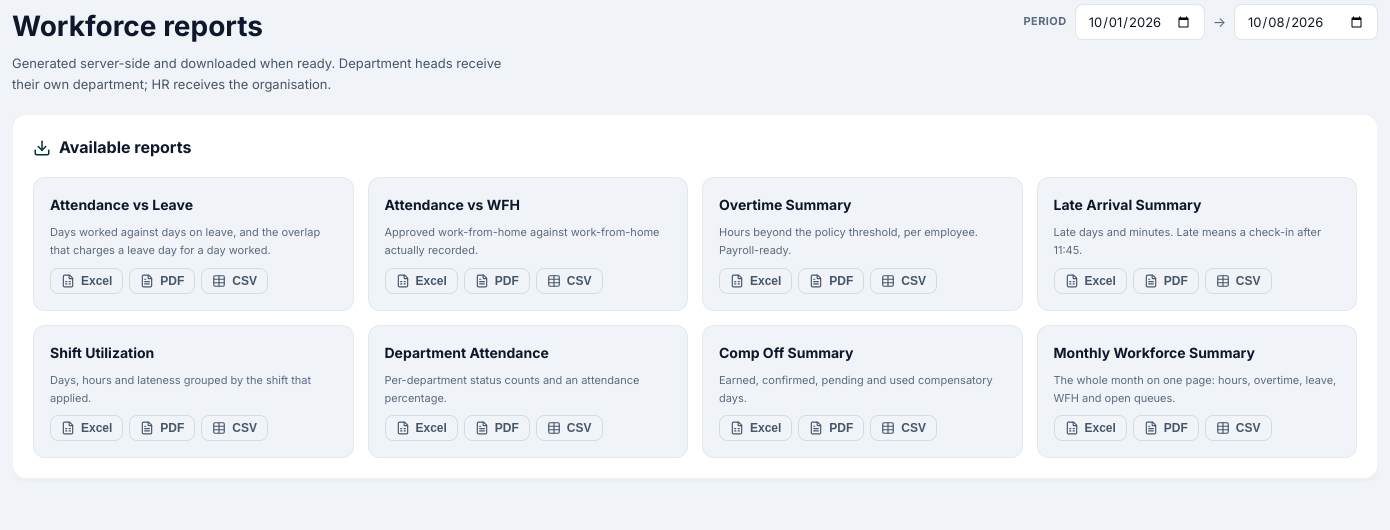
Test case: Workforce report center › surfaces a failed run instead of downloading nothing
The image size is (1390, 530).
Click the button "CSV" below "Attendance vs Leave": click(235, 281) [201,268,268,294]
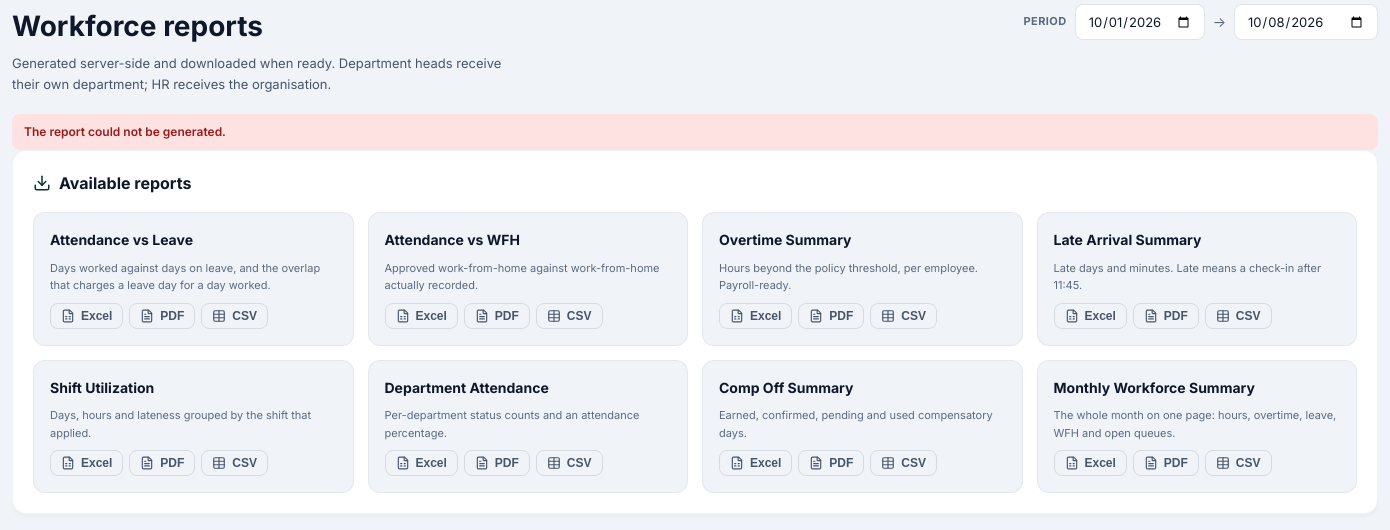
Result: the message "The report could not be generated." is shown at [12,114,1378,150]
